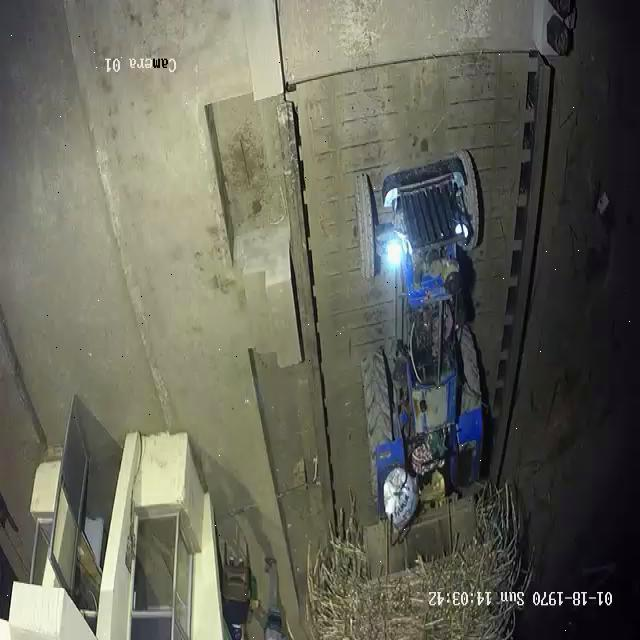Tratores - v5 YOLO V8L 2024-11-13: (352, 152, 488, 493)
